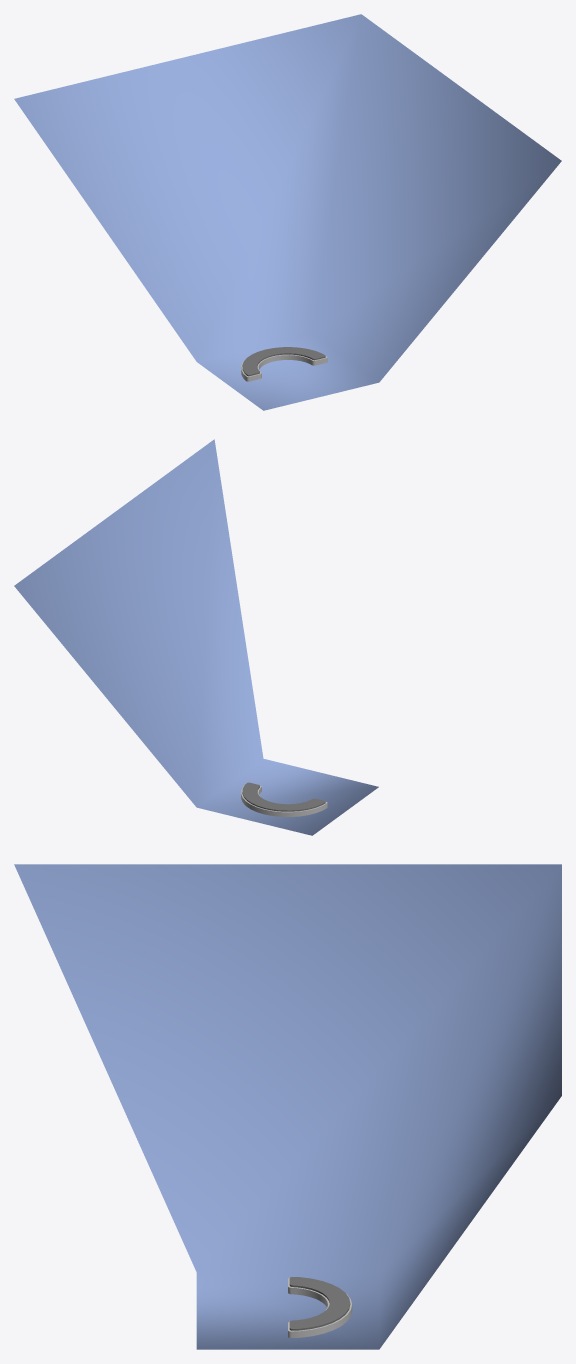
The model's file is stage.glb.
The picture shows the model from 3 angles, top to bottom: view 1: azimuth 30°, elevation 25°; view 2: azimuth 150°, elevation 25°; view 3: azimuth 270°, elevation 25°; orthographic projection. The views are drawn at different scales.
Parts seen in each view (by area): view 1: Plane; view 2: Plane; view 3: Plane.
Boxes of the visible parts, x1,y1,x2,y2 form: Plane: (14,14,561,410); Plane: (14,439,378,835); Plane: (14,864,561,1349).
Bounding box in the file's own units: 60 × 40 × 60.
